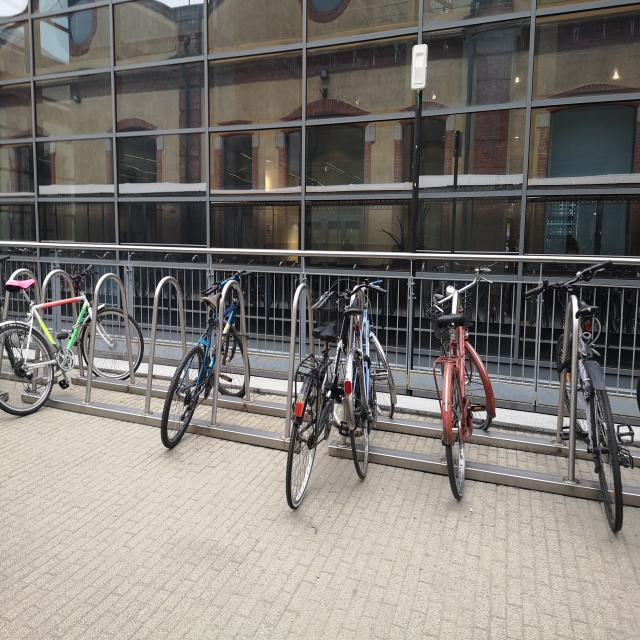Bicycle: (0, 242, 149, 460), (150, 230, 284, 463), (536, 239, 640, 524), (273, 246, 368, 516), (423, 244, 508, 517), (346, 245, 402, 478)
